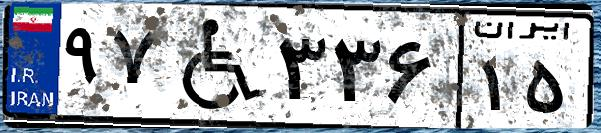1: (475, 38, 525, 113)
3: (270, 28, 330, 110), (330, 28, 385, 110)
5: (525, 38, 570, 115)
6: (385, 28, 445, 110)
7: (110, 28, 158, 98)
9: (57, 26, 110, 100)
ژ (معلولین و جانبازان): (158, 12, 270, 120)
